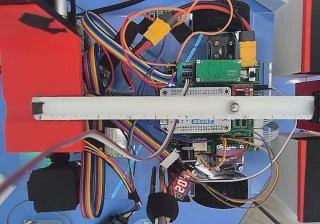ironball: (228, 102, 239, 112)
